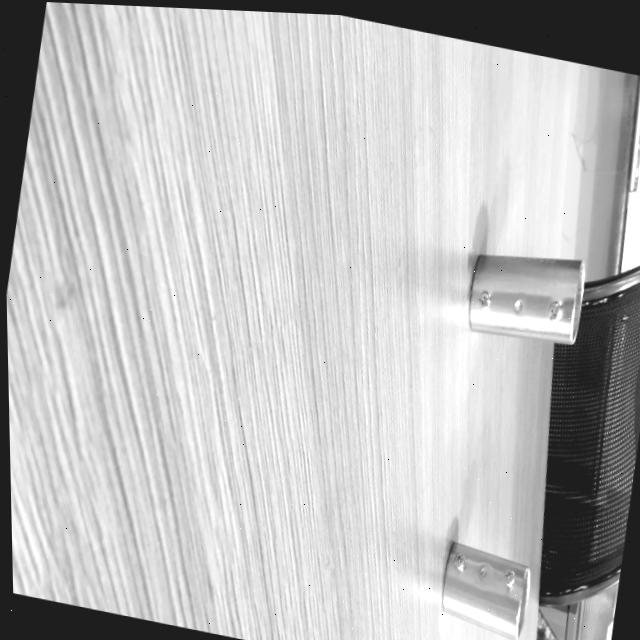Co_Lon: (466, 248, 586, 344)
Co_Nho: (430, 541, 542, 640)
